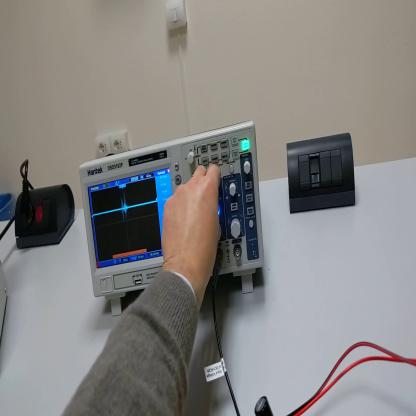hand: (161, 161, 222, 300)
high voltage board: (252, 388, 277, 416)
oscilloscope: (83, 118, 271, 320)
power supply: (1, 258, 11, 347)
socket: (16, 184, 77, 250)
